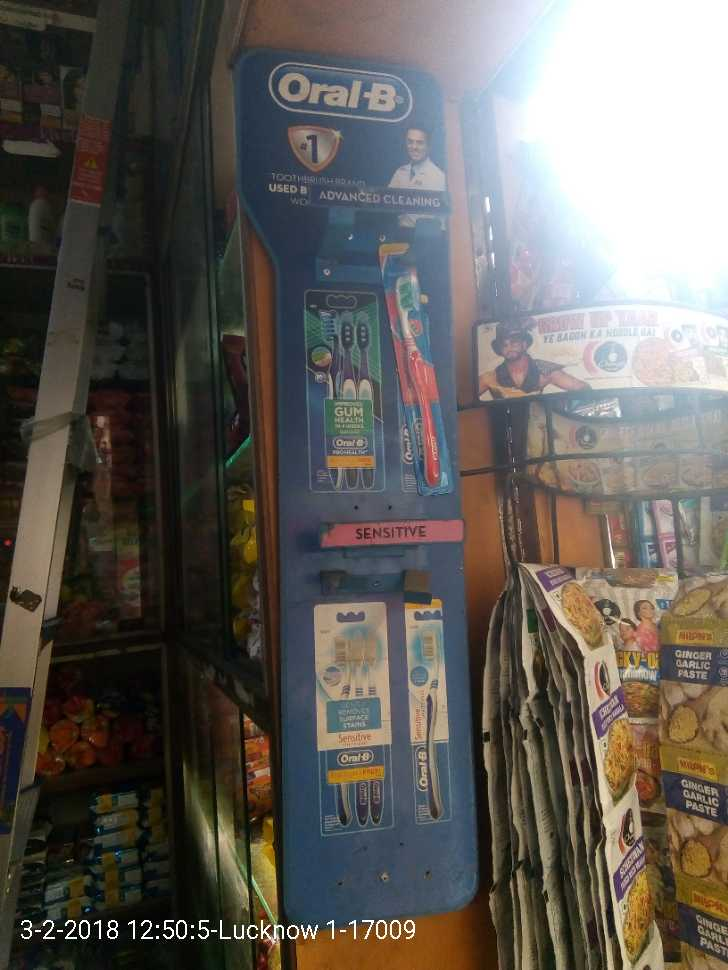oralb: (380, 241, 454, 497)
